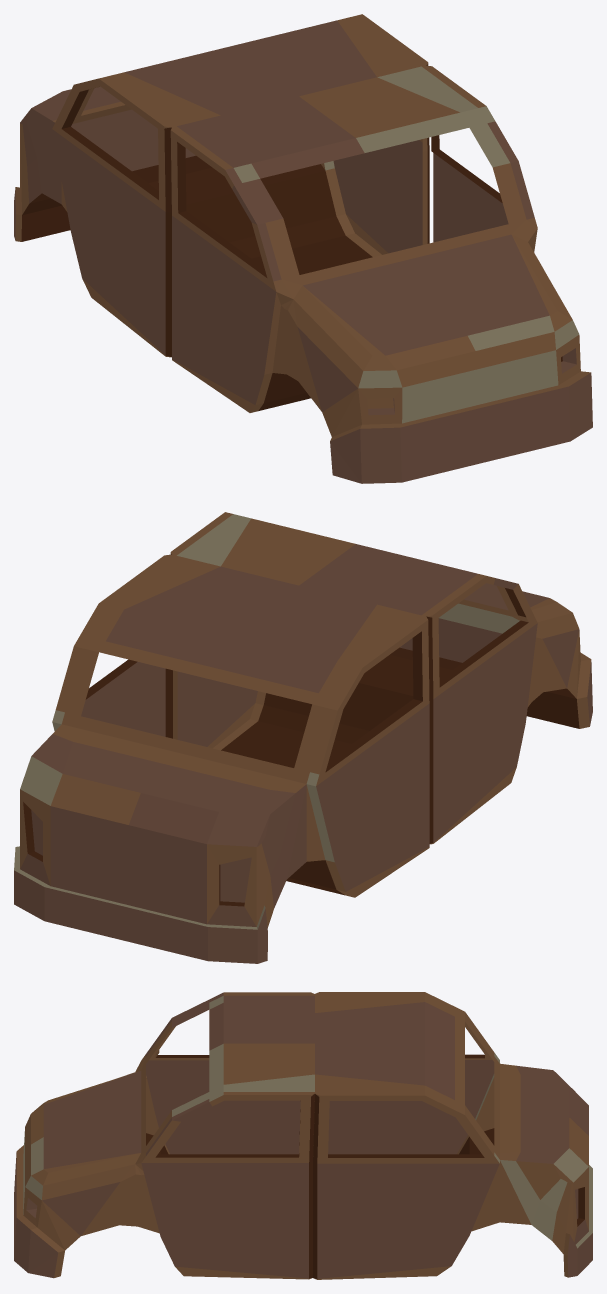
File: BurntCar1.gltf
The picture shows the model from 3 angles, top to bottom: view 1: azimuth 30°, elevation 25°; view 2: azimuth 150°, elevation 25°; view 3: azimuth 270°, elevation 25°; orthographic projection. The views are drawn at different scales.
Visible parts, largest first — view 1: Car_1; view 2: Car_1; view 3: Car_1.
Boxes of the visible parts, bbox=[...] form: Car_1: bbox=[14, 14, 592, 483]; Car_1: bbox=[14, 512, 592, 963]; Car_1: bbox=[14, 992, 592, 1279].
Bounding box in the file's own units: 4.07 × 3.38 × 9.62.
